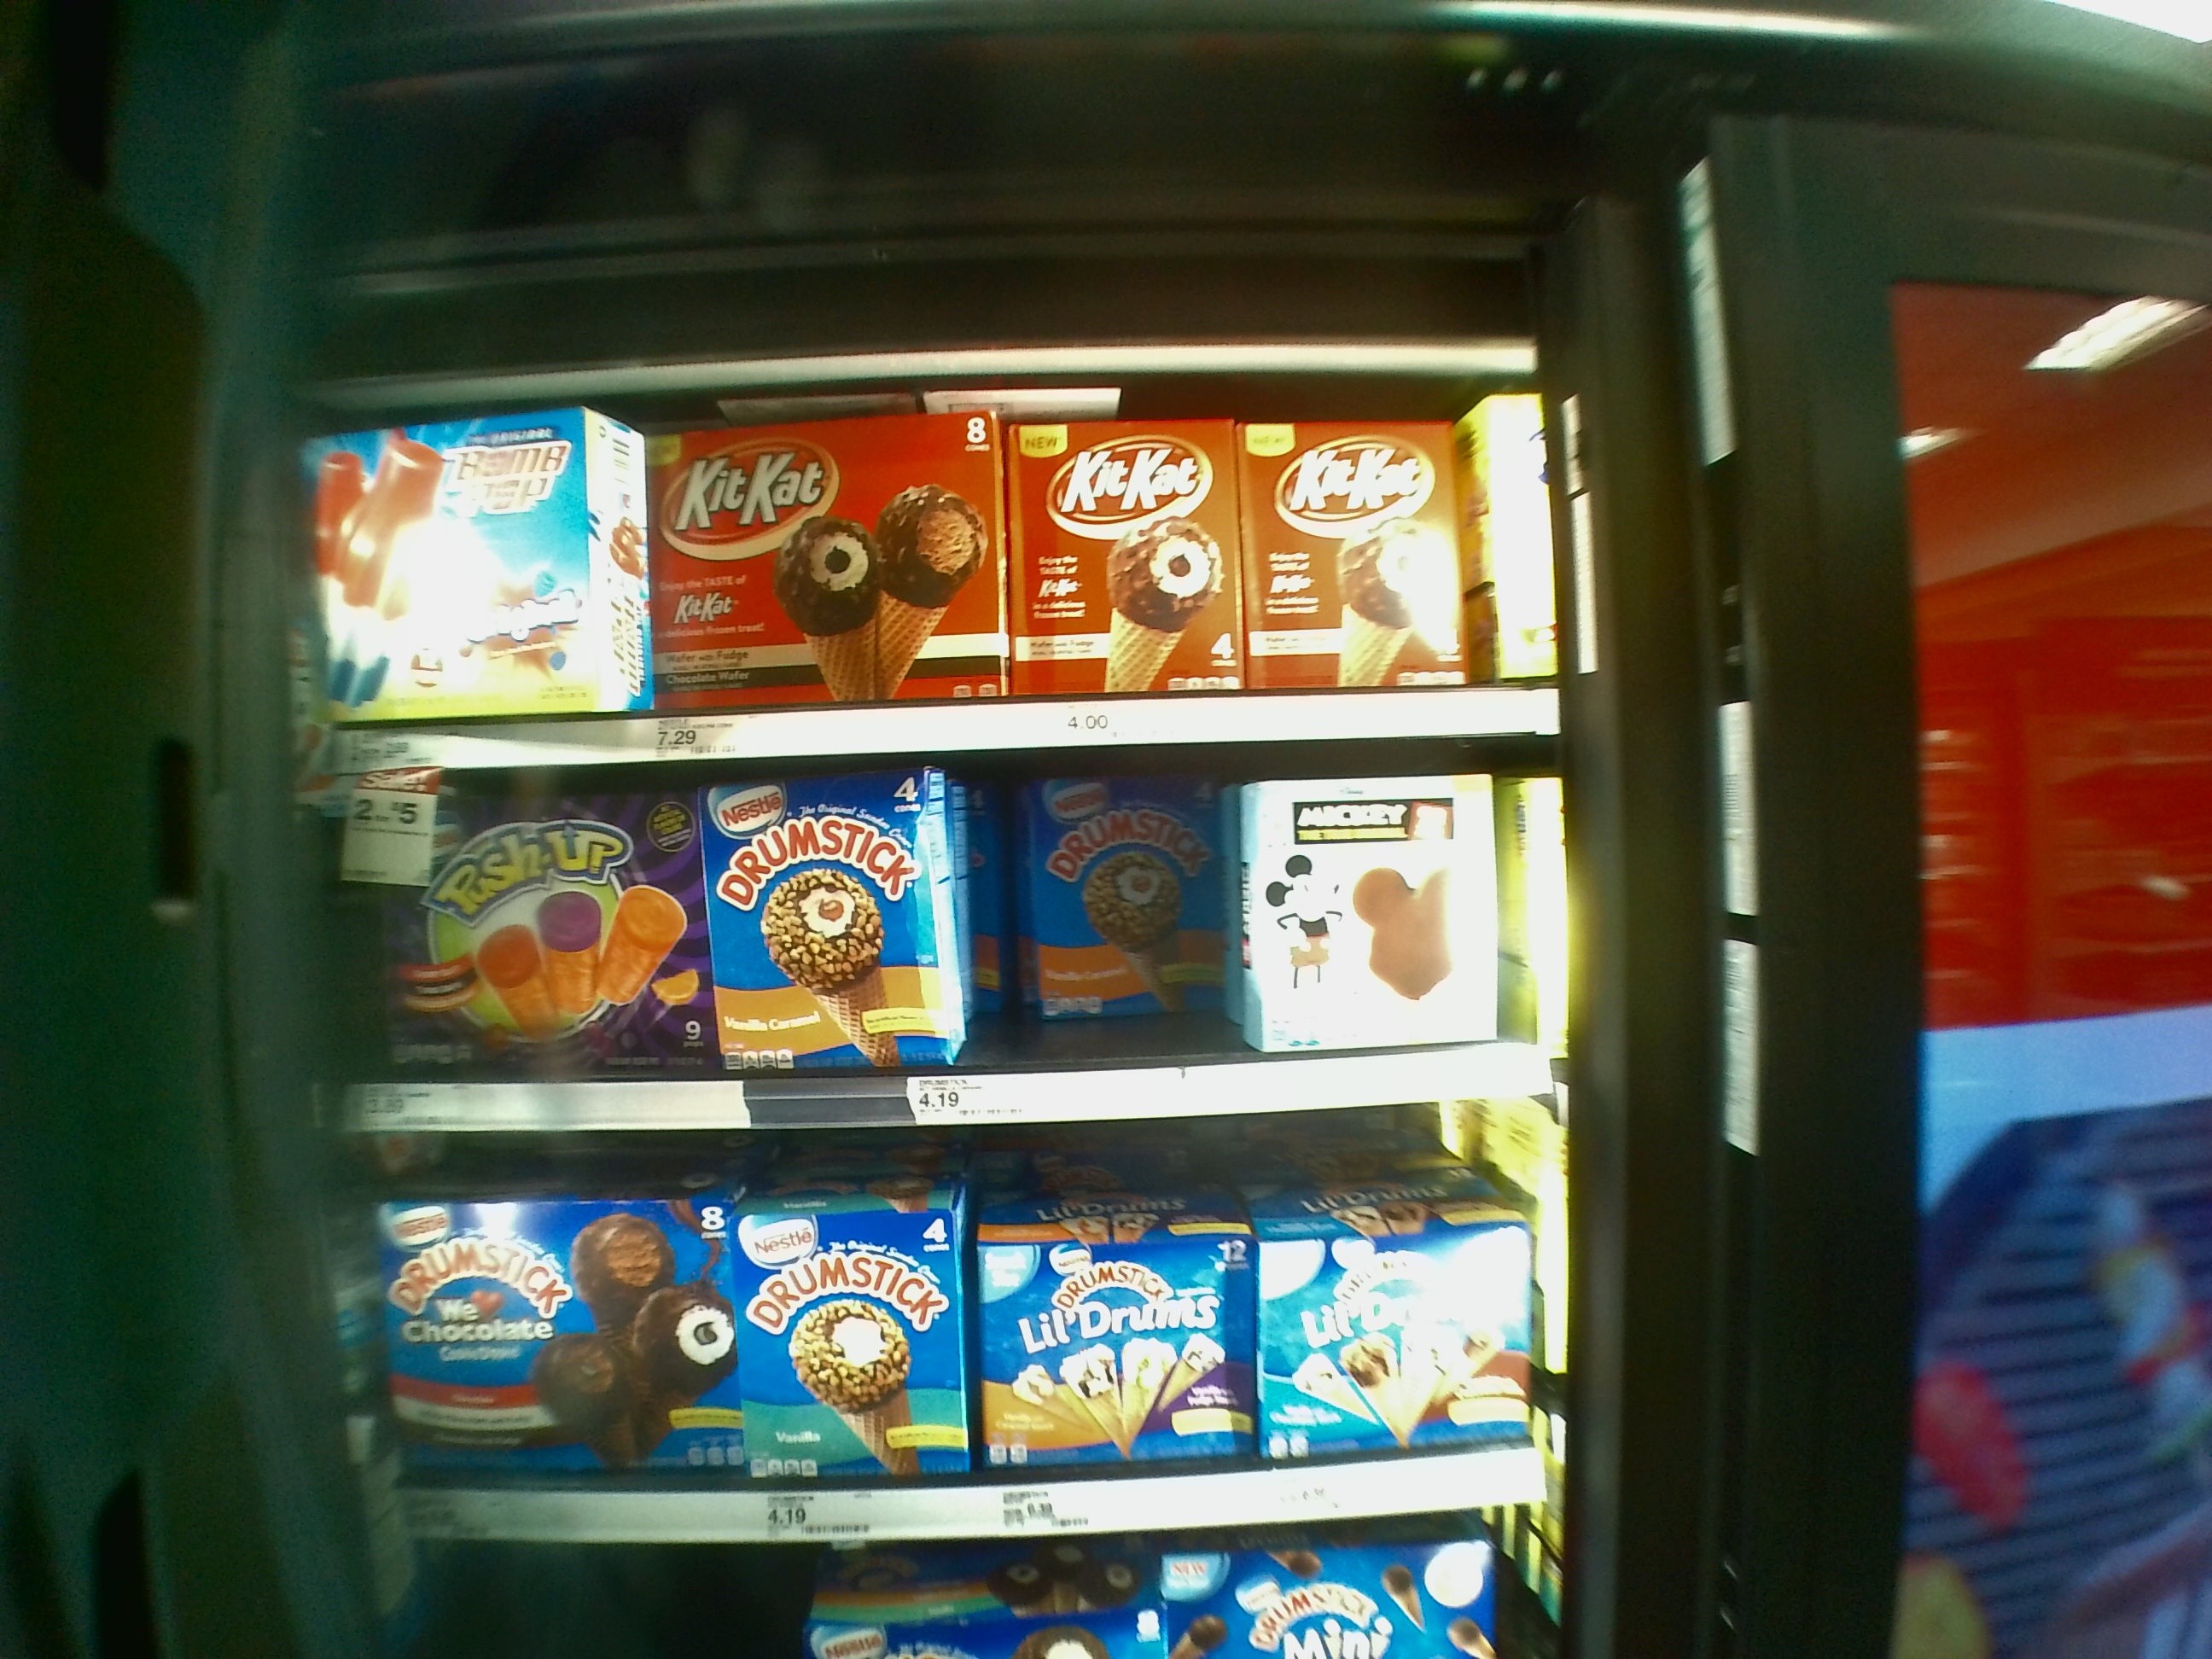shelf: (298, 376, 1568, 769), (361, 1141, 1557, 1530), (324, 763, 1550, 1141)
